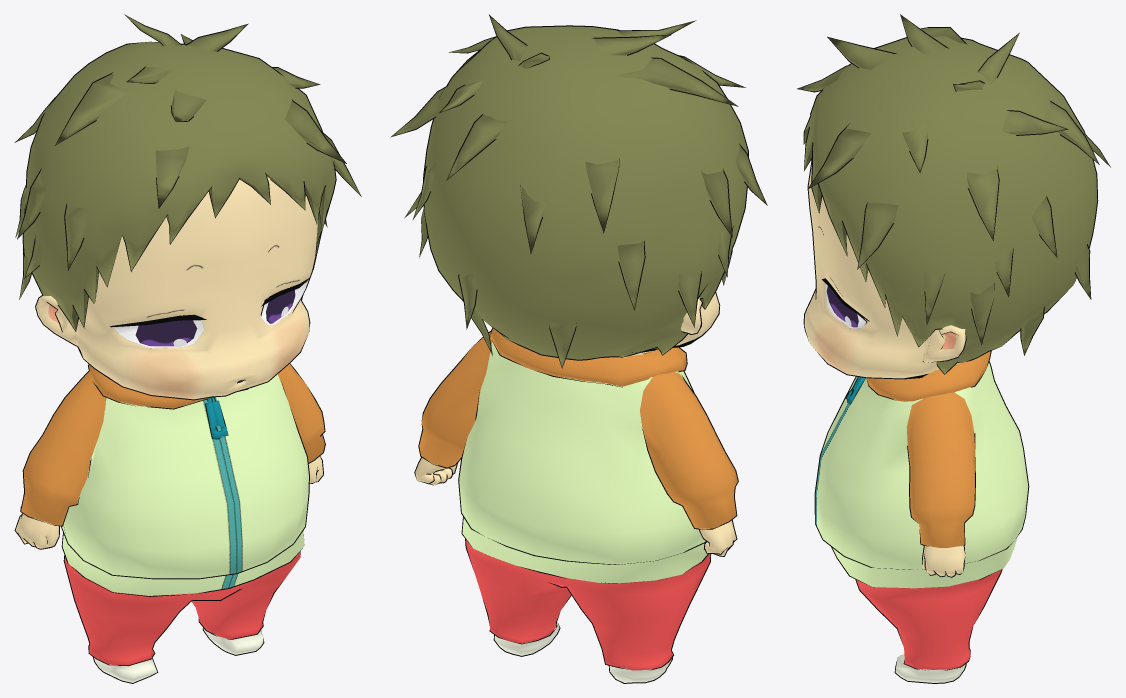
Rendered from kotarou_-_gakuen_babysitters.glb.
3 views of the same model, side by side, from view 1: azimuth 30°, elevation 25°; view 2: azimuth 150°, elevation 25°; view 3: azimuth 270°, elevation 25° (orthographic). The views are drawn at different scales.
Visible parts, largest first — view 1: Cube; view 2: Cube; view 3: Cube.
Boxes of the visible parts, x1,y1,x2,y2 form: Cube: (14,14,361,683); Cube: (390,14,767,683); Cube: (797,14,1110,683).
Size of the model in its own units: 465 by 888 by 415.
1 material, 1 textured.
